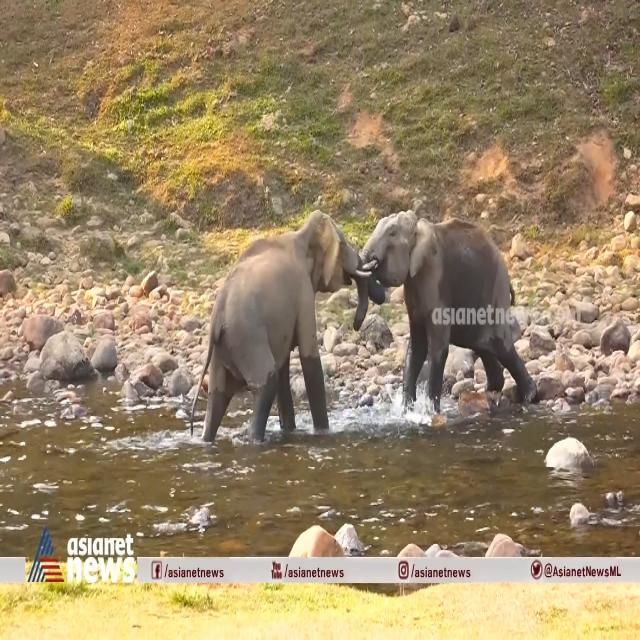ELEPHANT: (200, 214, 369, 434)
